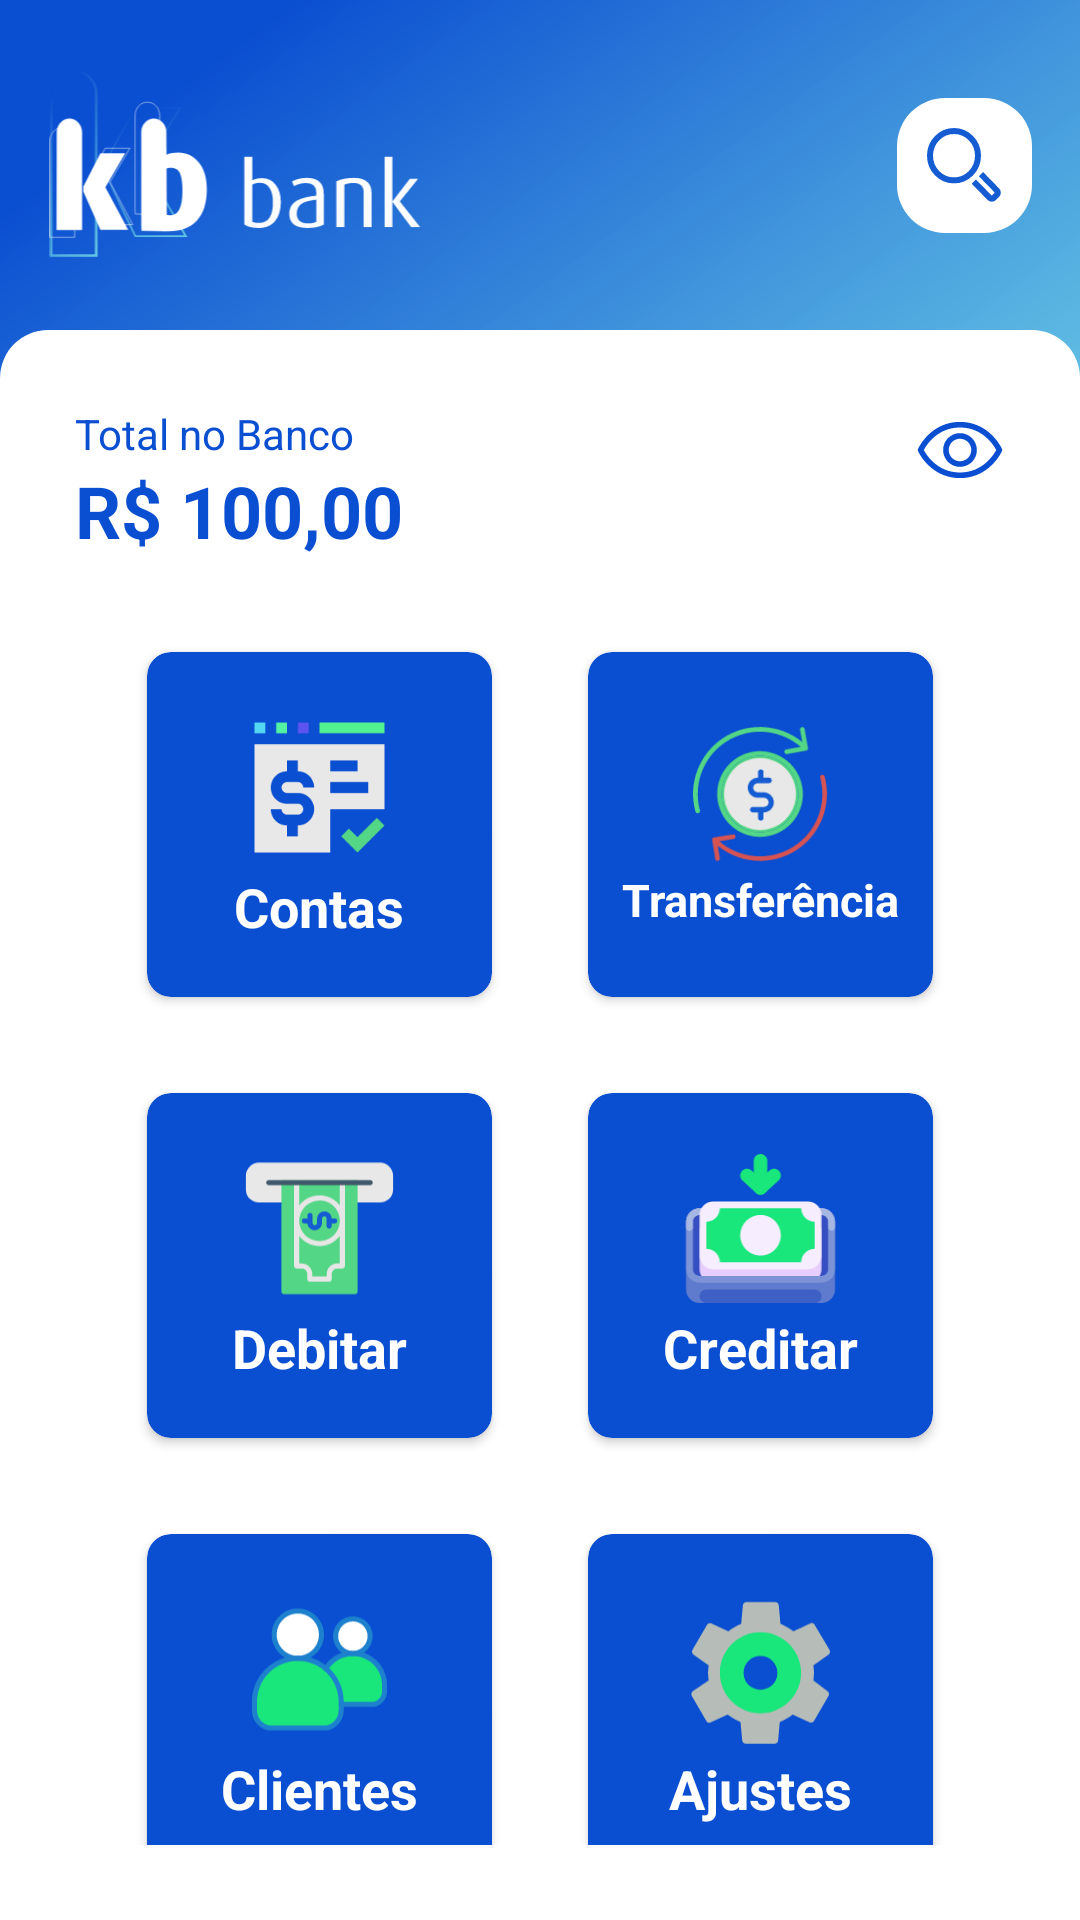

Point at icon controls on the screen. Image size 1080 × 1920, points as (x=x, y=y).
open eyes: (x=960, y=450)
search: (x=964, y=165)
